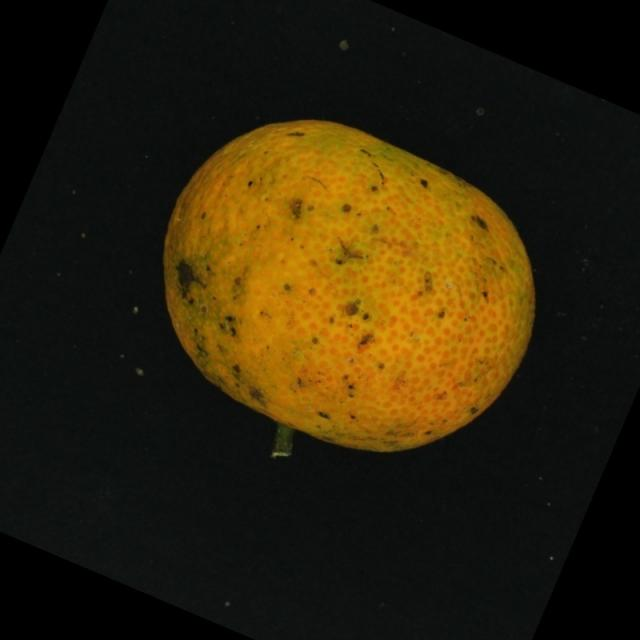grenning: (130, 102, 550, 478)
